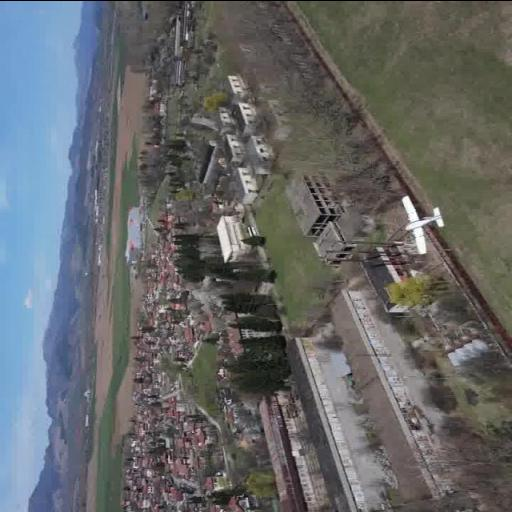uav: (398, 192, 448, 254)
